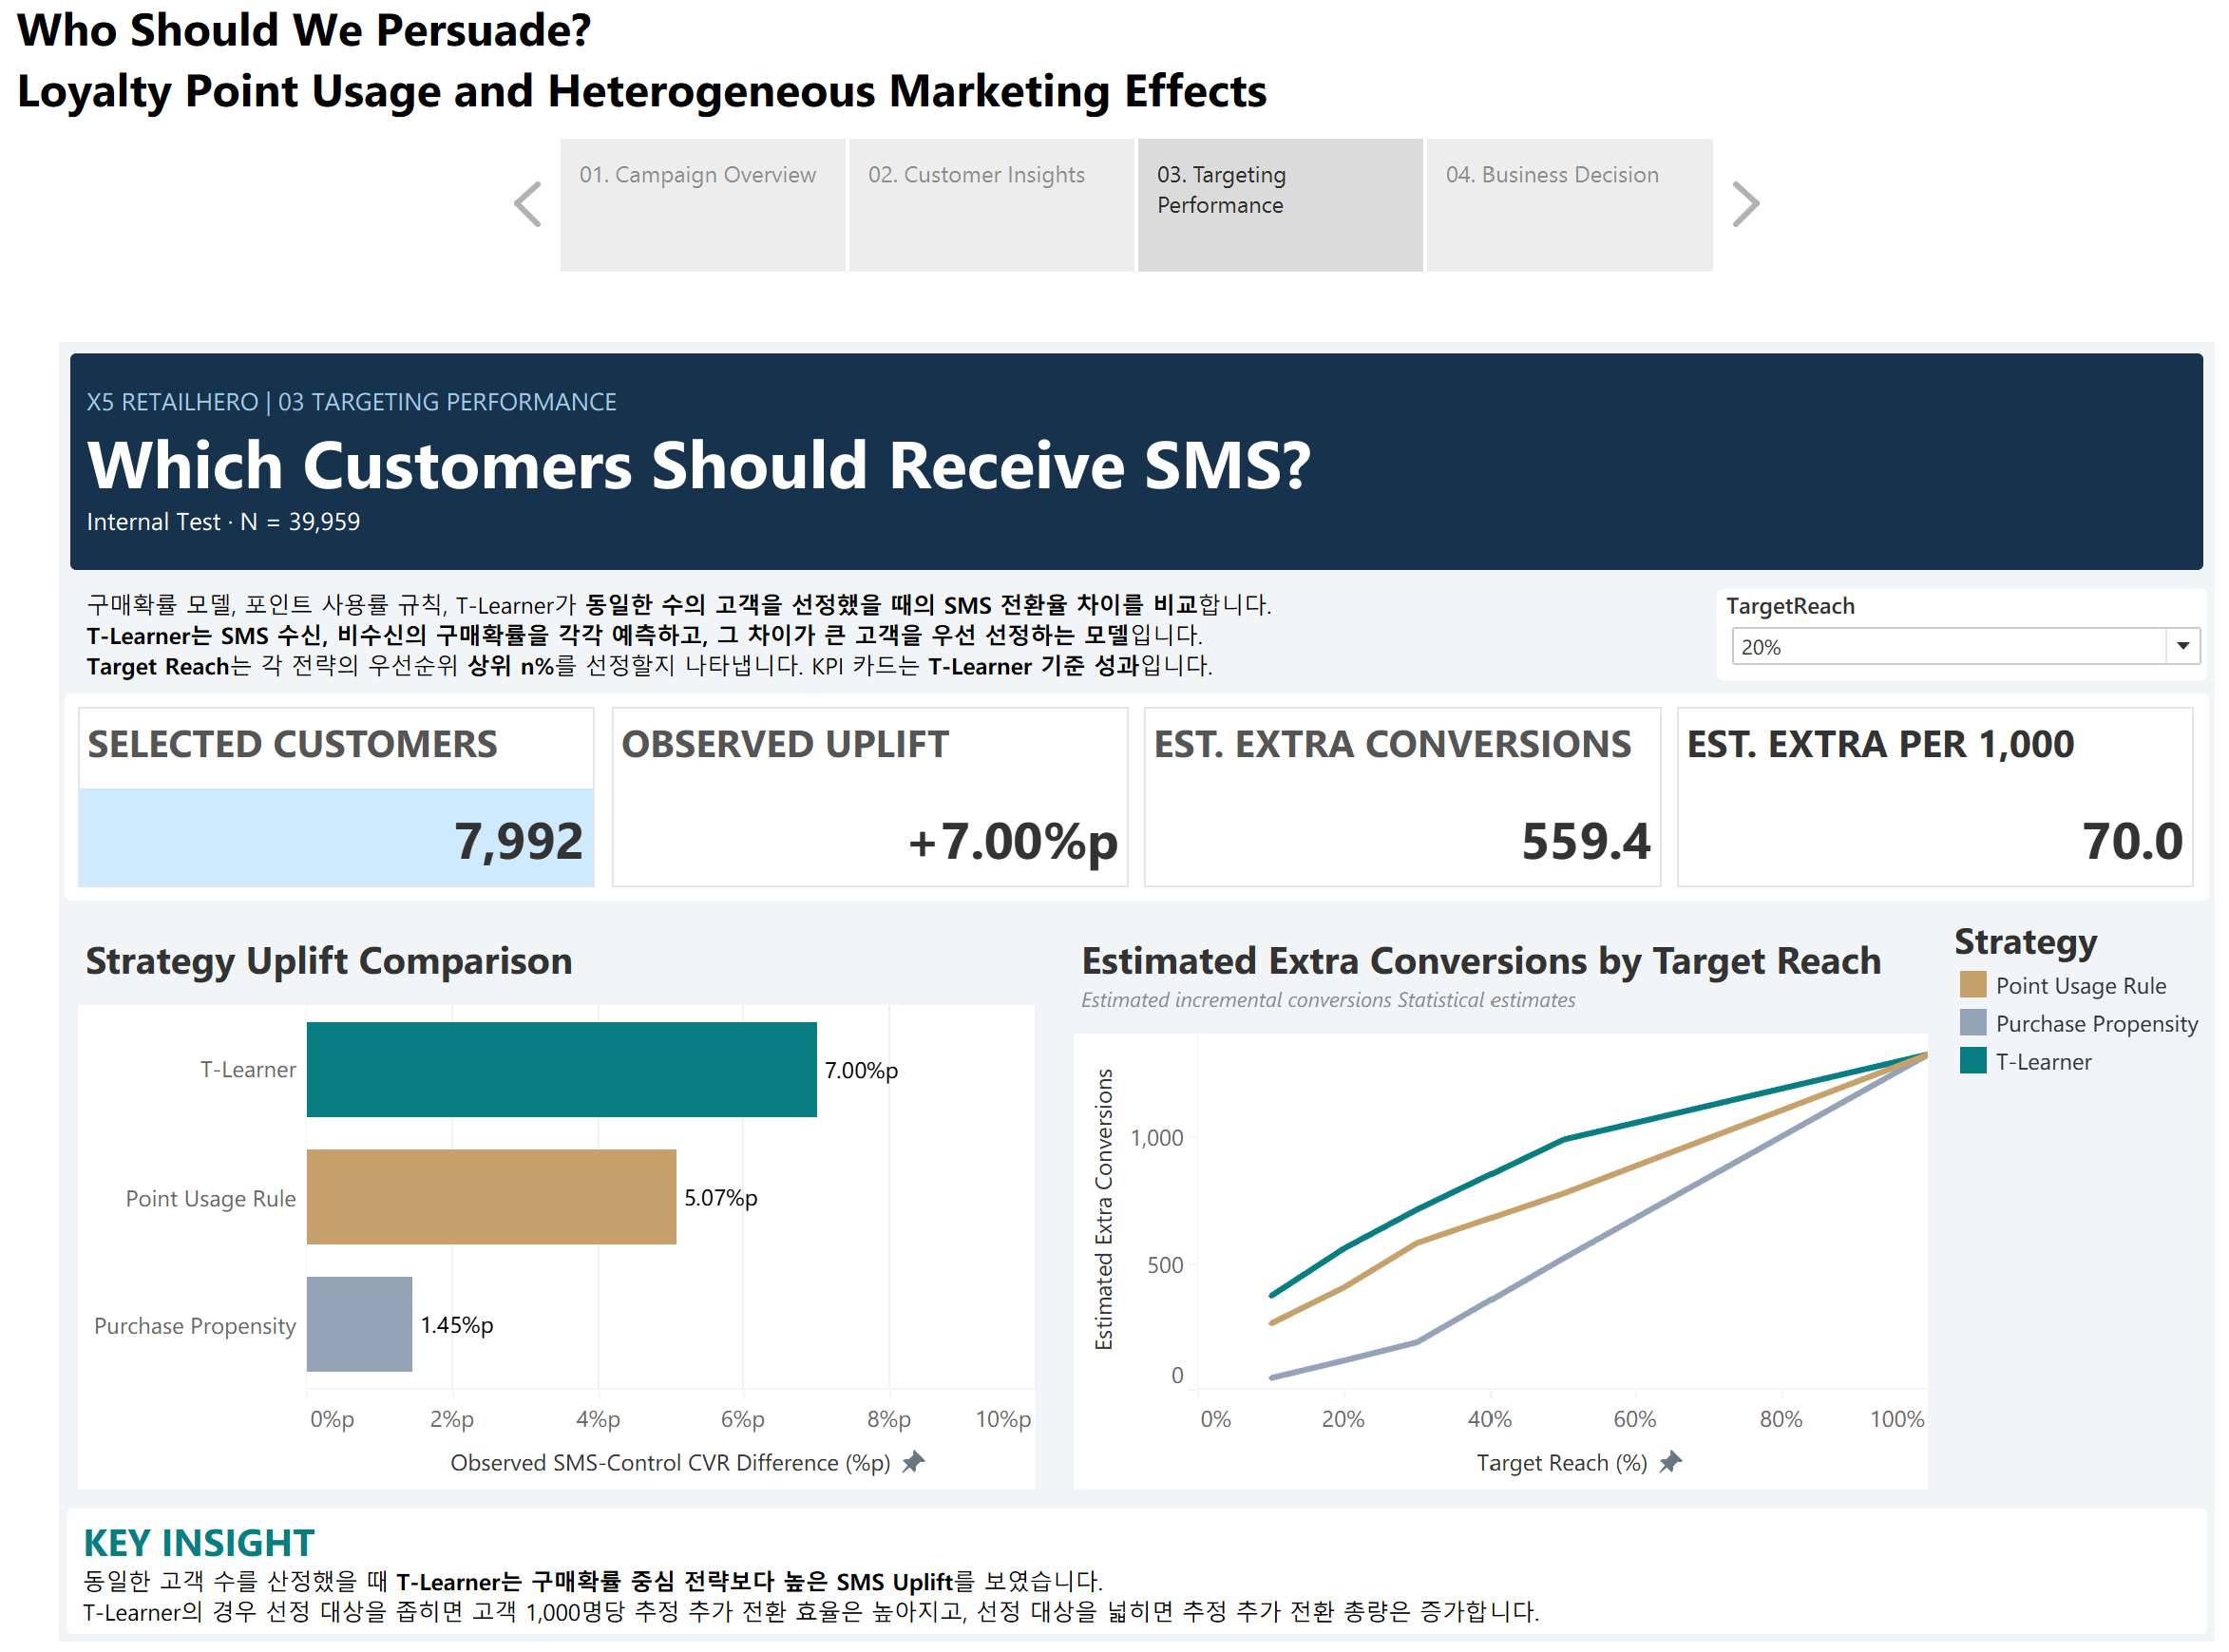

This screenshot's page, from the dashboard's own definition file:
{"tool":"tableau","page":{"name":"D03_Targeting Performance","canvas":[1150,700],"ordinal":2},"visuals":[{"type":"text","box":[8,8,1134,126.3]},{"type":"text","box":[8,134.3,868,55.7]},{"type":"parameter","param":"[Parameters].[매개 변수 0912869946216448]","box":[876,134.3,266,55.7]},{"type":"worksheet","title":"08_KPI_Targeted_Customers","mark":"Automatic","box":[14,196,280.5,103]},{"type":"worksheet","title":"09_KPI_SMS_Lift","mark":"Automatic","box":[294.5,196,280.5,103]},{"type":"worksheet","title":"10_KPI_Extra_Conversions","mark":"Automatic","box":[575,196,280.5,103]},{"type":"worksheet","title":"11_KPI_Extra_Per_1000","mark":"Automatic","box":[855.5,196,280.5,103]},{"type":"worksheet","title":"07_Strategy_Uplift_Comparison","mark":"Bar","rows":["strategy"],"cols":["uplift_pp"],"box":[8,305,524,317]},{"type":"worksheet","title":"12_Extra_Conversion_by_Reach","mark":"Line","rows":["estimated_extra_conversions"],"cols":["top_fraction"],"box":[532,305,469,317]},{"type":"legend","title":"12_Extra_Conversion_by_Reach","param":"[federated.1m84oev0ftenwi1d2x0do0iuqa2r].[none:strategy:nk]","box":[1001,305,141,317]},{"type":"text","box":[8,622,1134,70]}]}

Visuals, with their boxes on the page's 1150x700 design canvas (x1, y1, x2, y2). These are canvas units, not pixel positions in the 2229x1652 screenshot, which may show the page scaled, cropped or inside an application window:
text: left=8, top=8, right=1142, bottom=134
text: left=8, top=134, right=876, bottom=190
parameter: left=876, top=134, right=1142, bottom=190
"08_KPI_Targeted_Customers" worksheet: left=14, top=196, right=294, bottom=299
"09_KPI_SMS_Lift" worksheet: left=294, top=196, right=575, bottom=299
"10_KPI_Extra_Conversions" worksheet: left=575, top=196, right=856, bottom=299
"11_KPI_Extra_Per_1000" worksheet: left=856, top=196, right=1136, bottom=299
"07_Strategy_Uplift_Comparison" worksheet (Bar marks): left=8, top=305, right=532, bottom=622
"12_Extra_Conversion_by_Reach" worksheet (Line marks): left=532, top=305, right=1001, bottom=622
"12_Extra_Conversion_by_Reach" legend: left=1001, top=305, right=1142, bottom=622
text: left=8, top=622, right=1142, bottom=692
